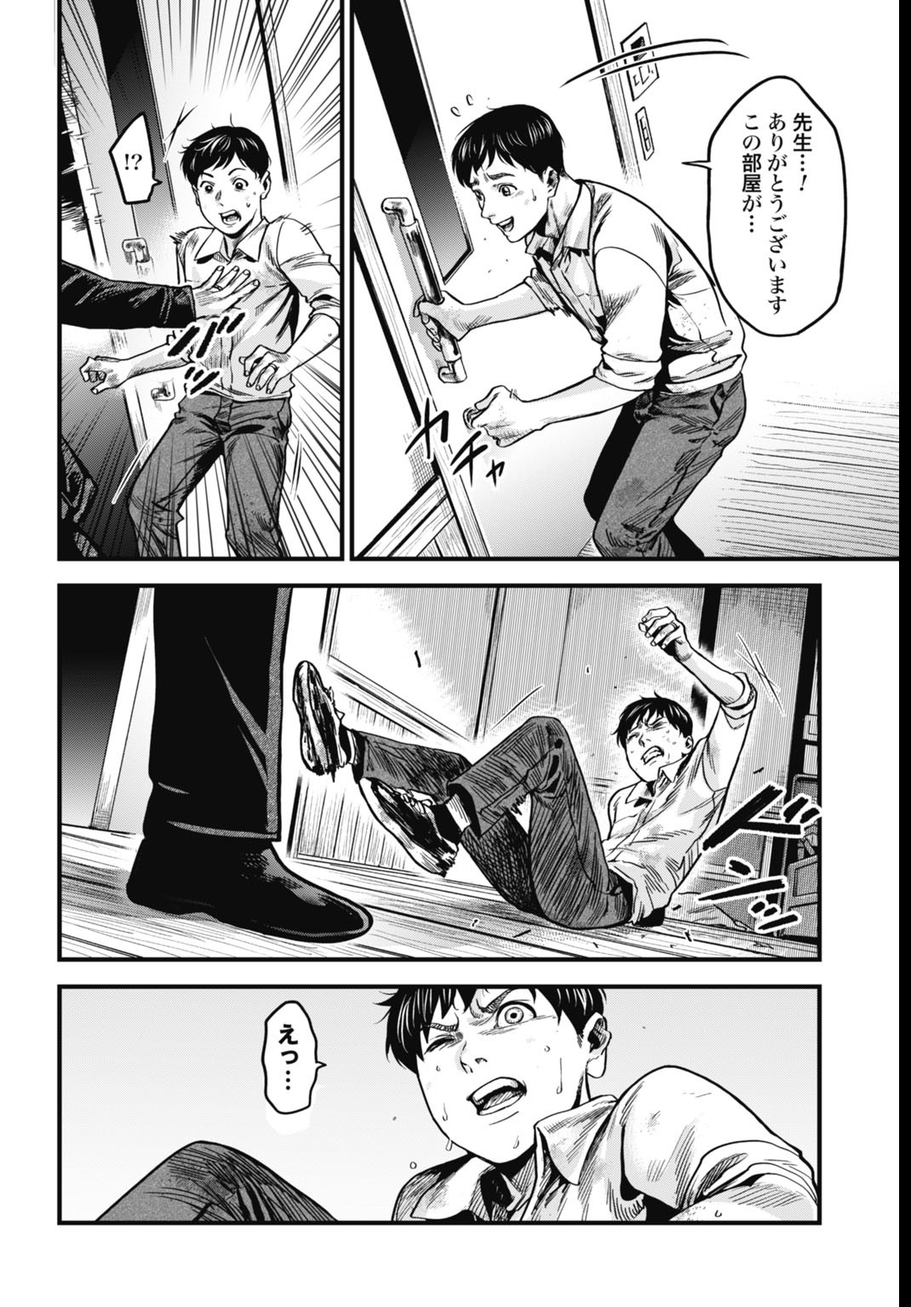bubbles: (676, 66, 853, 343), (255, 992, 332, 1120), (105, 108, 174, 211)
